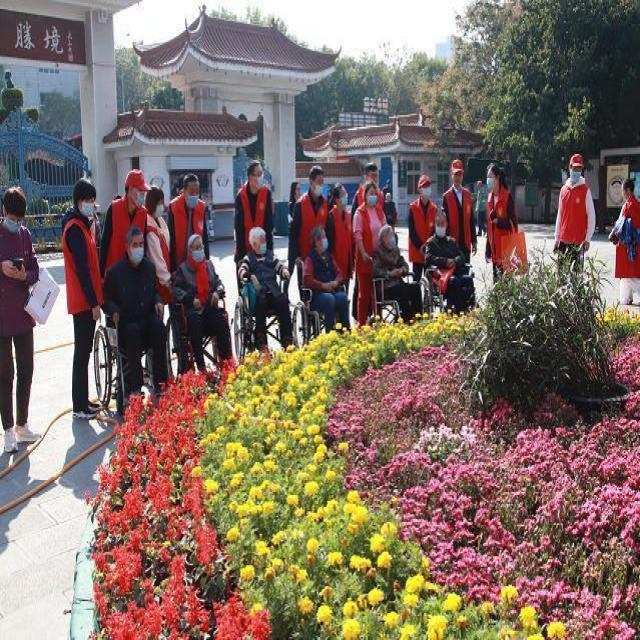wheelchairs: (91, 302, 175, 425), (225, 282, 296, 368), (292, 256, 357, 348)
